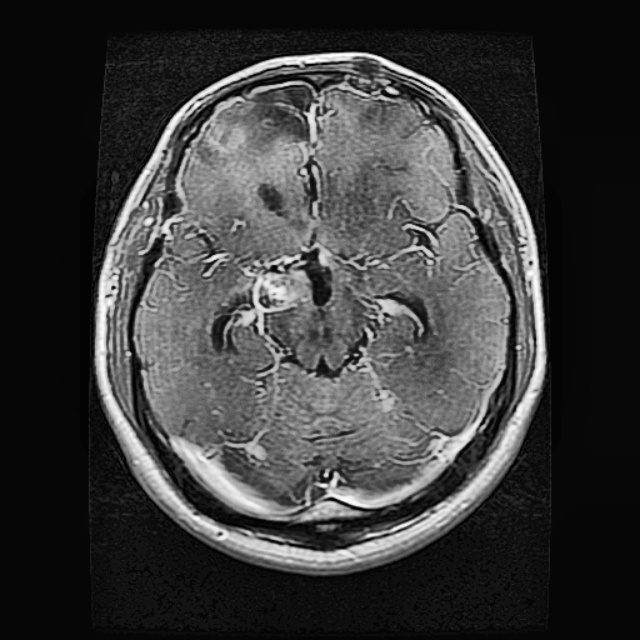Glioma: (192, 83, 310, 163)
